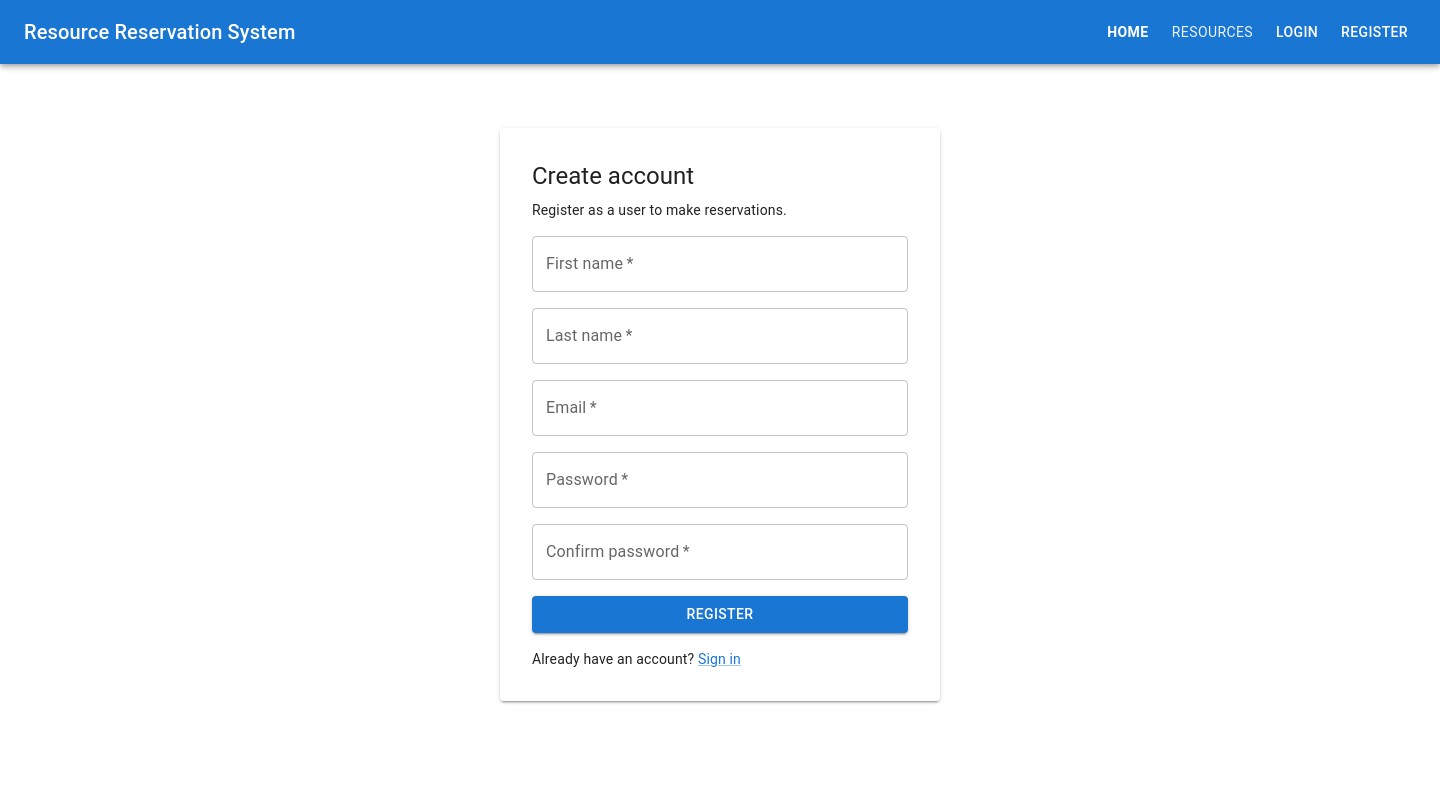
Test: RegisterPage › shows API validation errors from register
In the field labelled "First name *": [720, 264] box x1=532 y1=236 x2=908 y2=292, type "User"
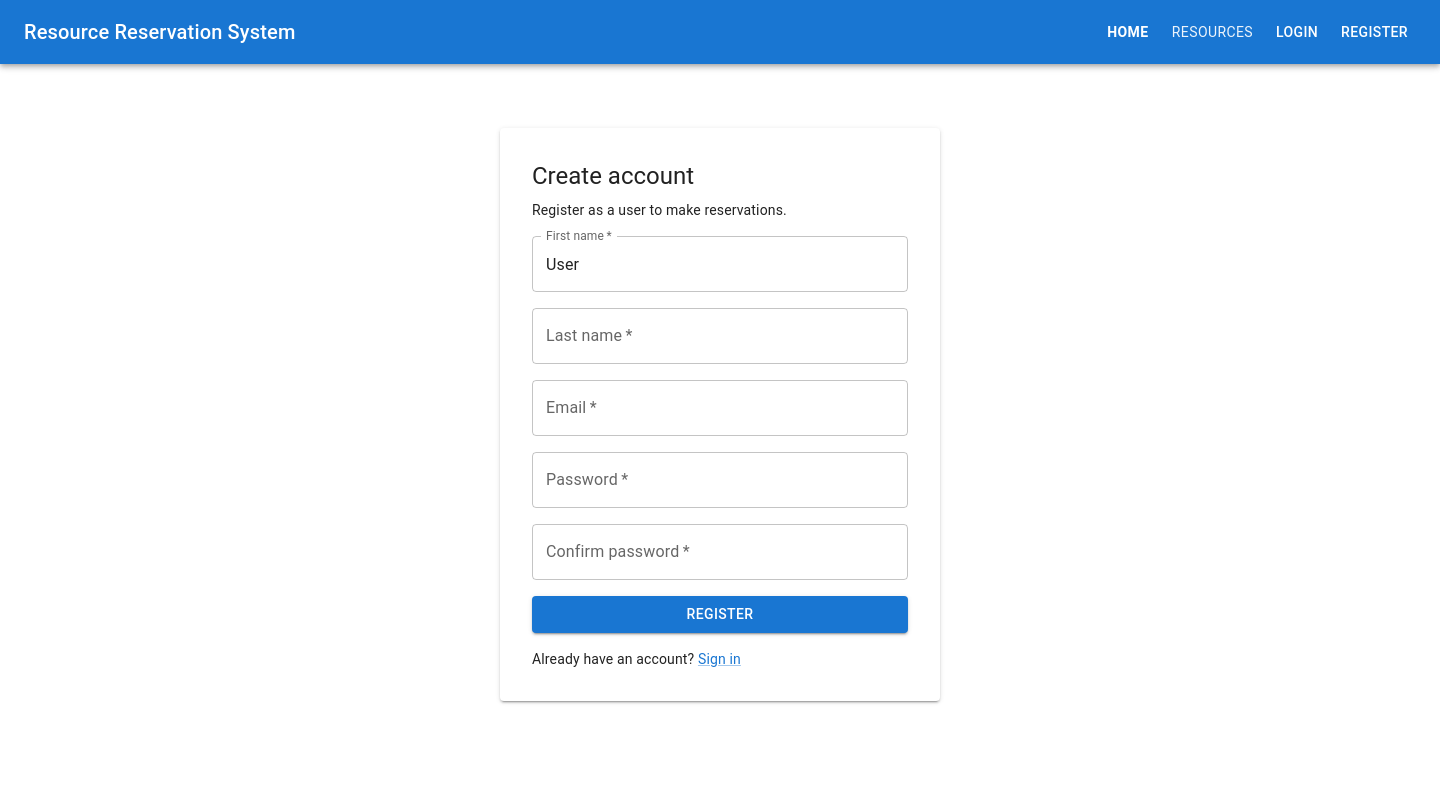
In the field labelled "Last name *": [720, 336] box x1=532 y1=308 x2=908 y2=364, type "Test"
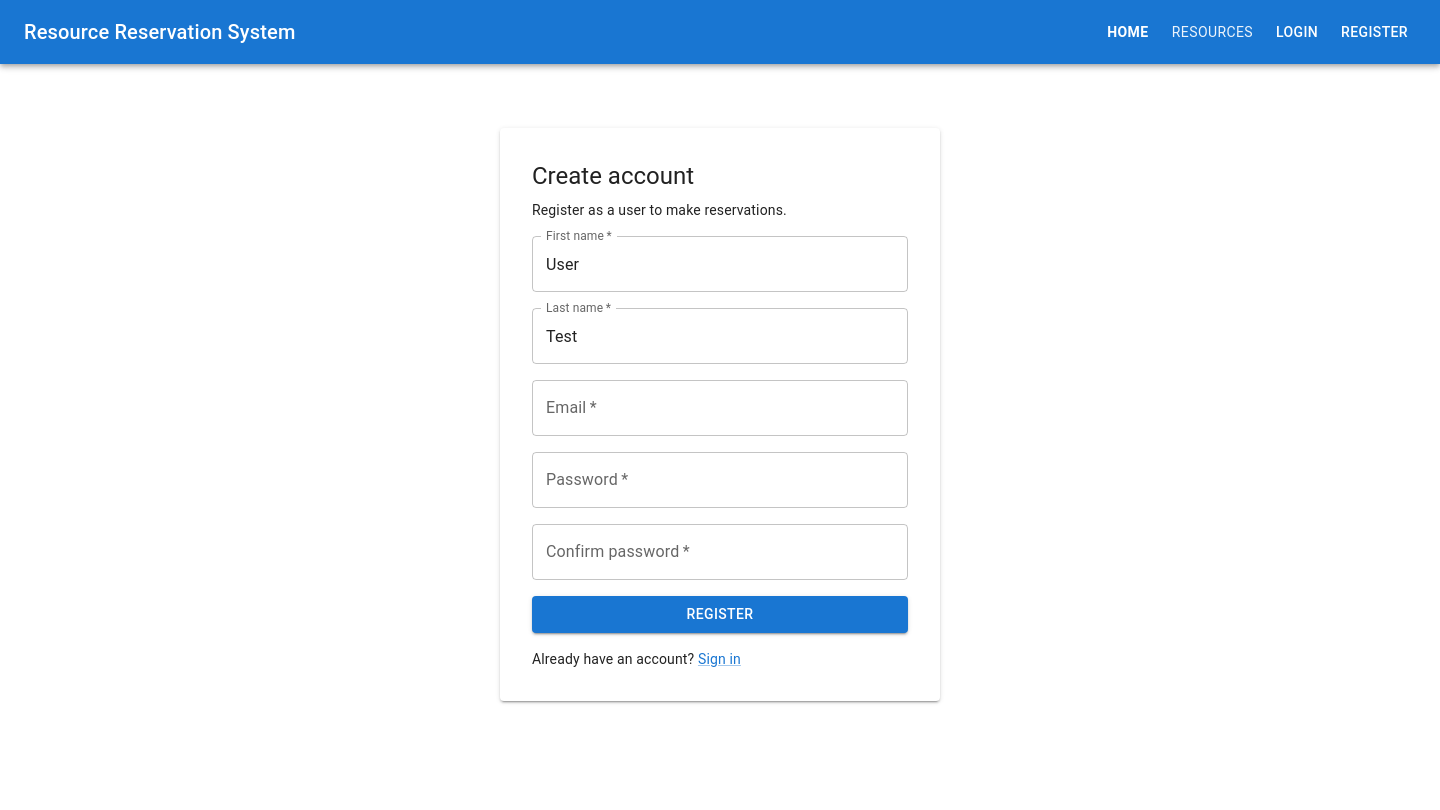
In the field labelled "Email *": [720, 408] box x1=532 y1=380 x2=908 y2=436, type "bad@example.com"
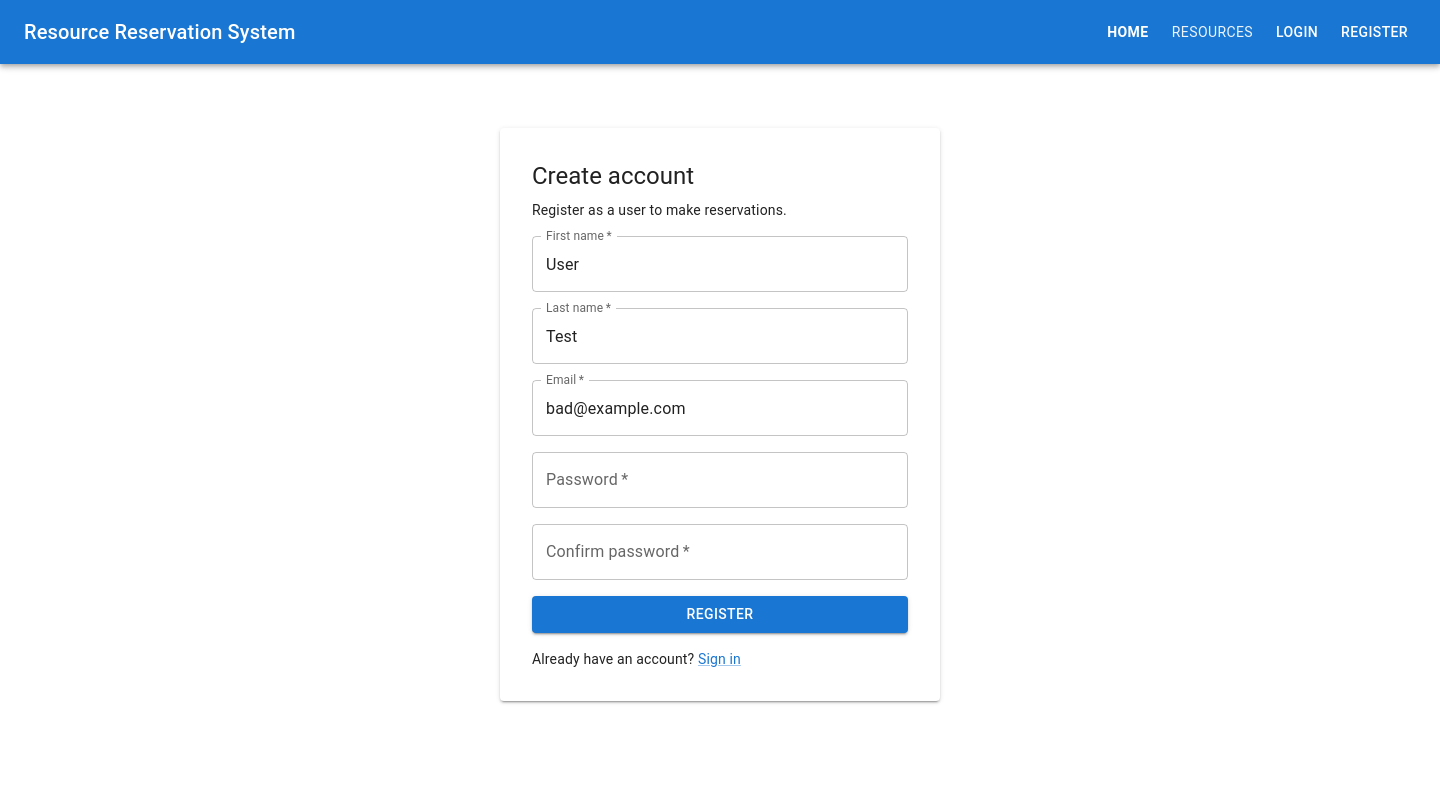
In the password field labelled "Password *": [720, 480] box x1=532 y1=452 x2=908 y2=508, type "password123"
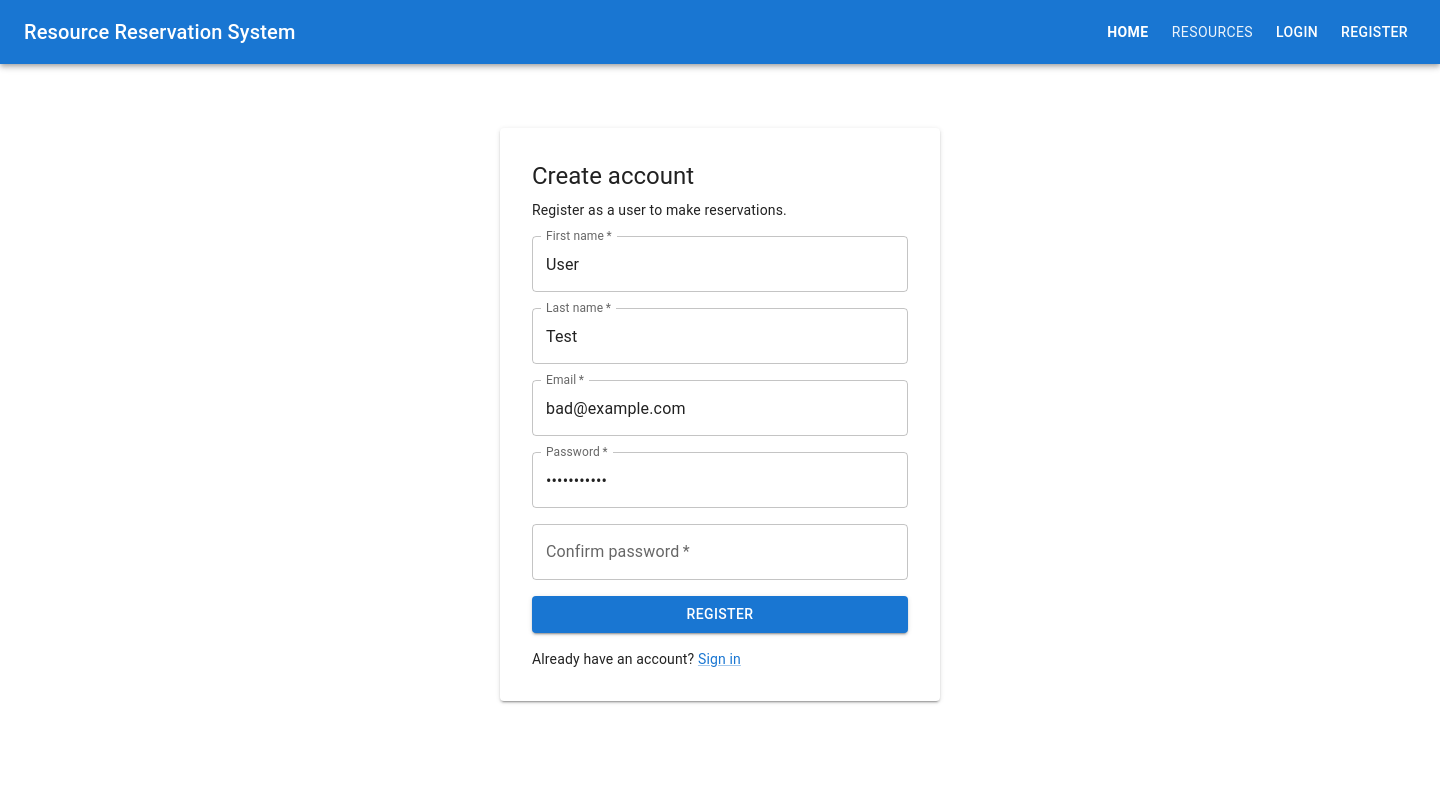
In the password field labelled "Confirm password *": [720, 552] box x1=532 y1=524 x2=908 y2=580, type "password123"
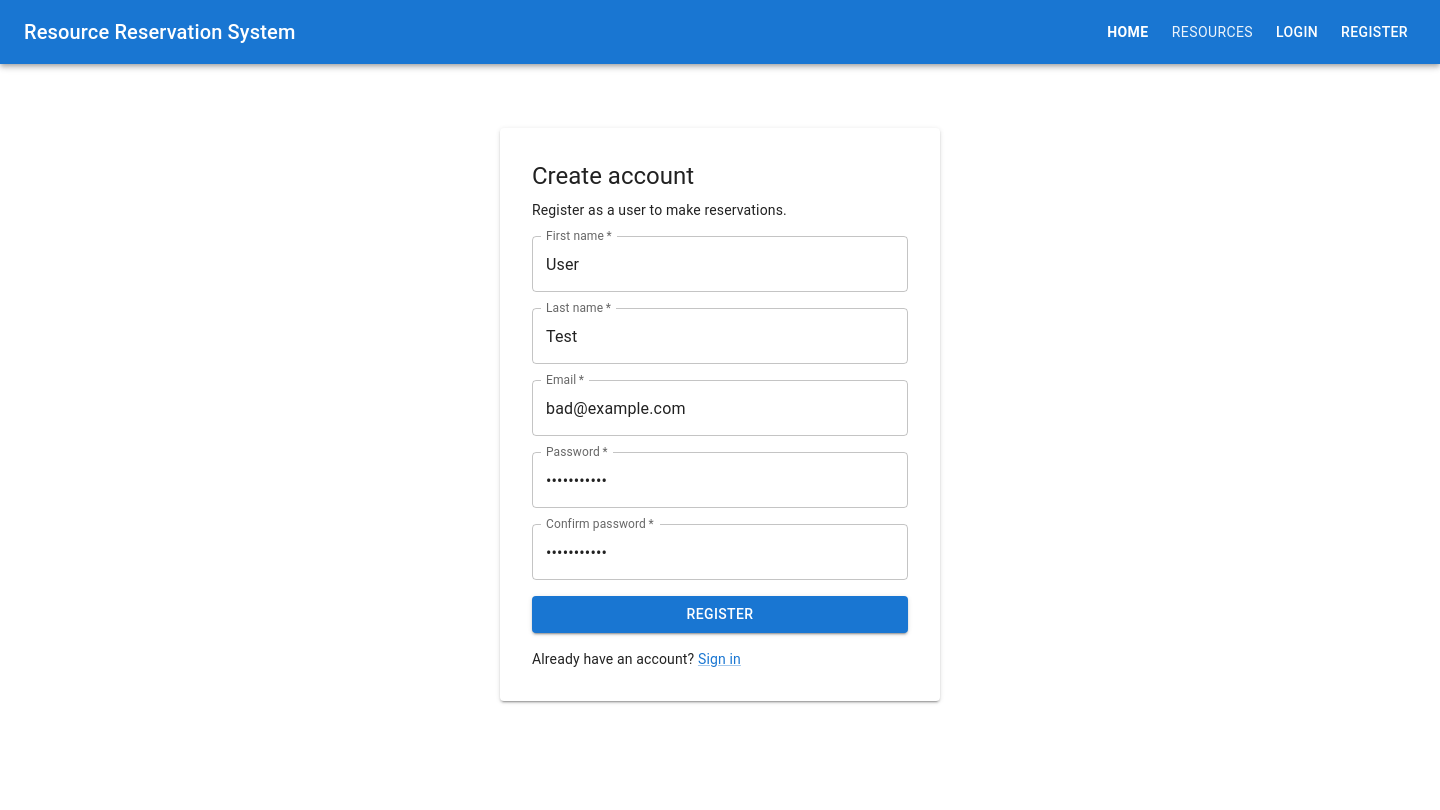
Click the button "Register": [720, 615] box x1=532 y1=596 x2=908 y2=633
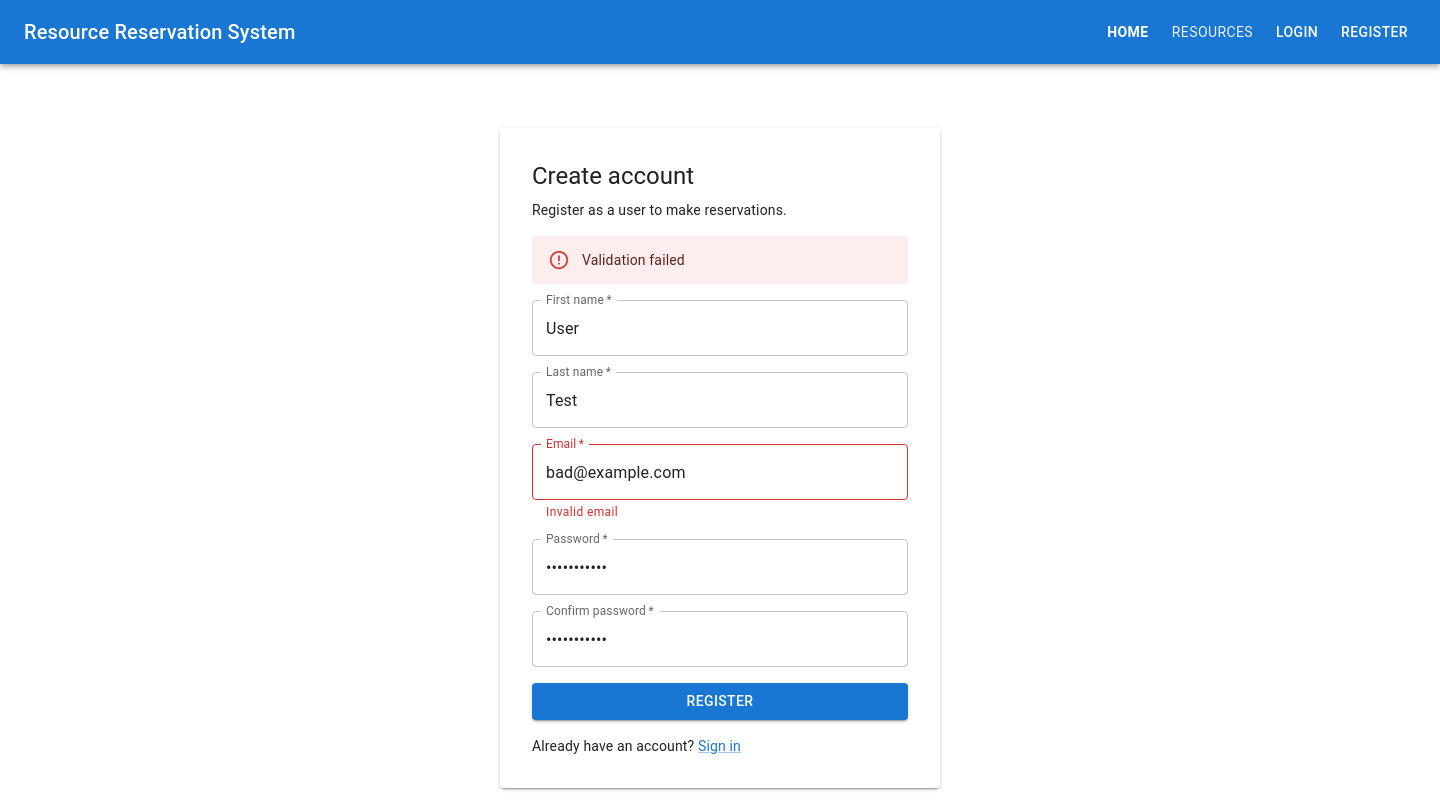
Result: the text "Validation failed" is shown at x1=582 y1=252 x2=685 y2=268
Result: the text "Invalid email" is shown at x1=546 y1=505 x2=618 y2=519
